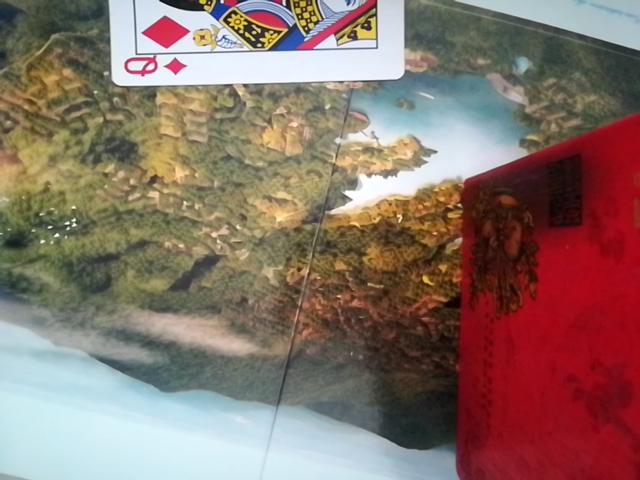fk q: (106, 0, 403, 90)
